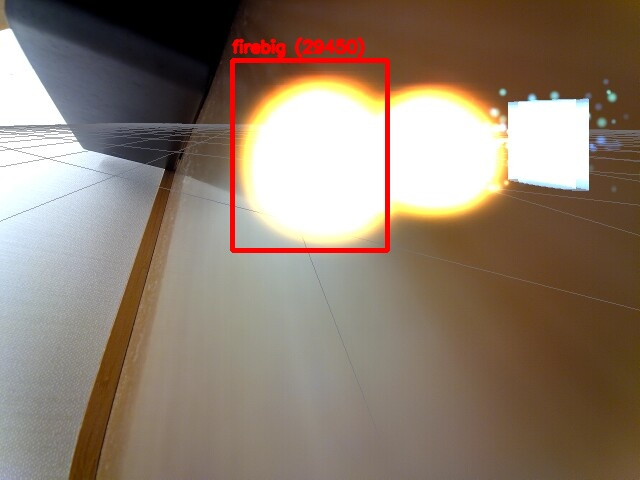firebig: (232, 60, 387, 250)
